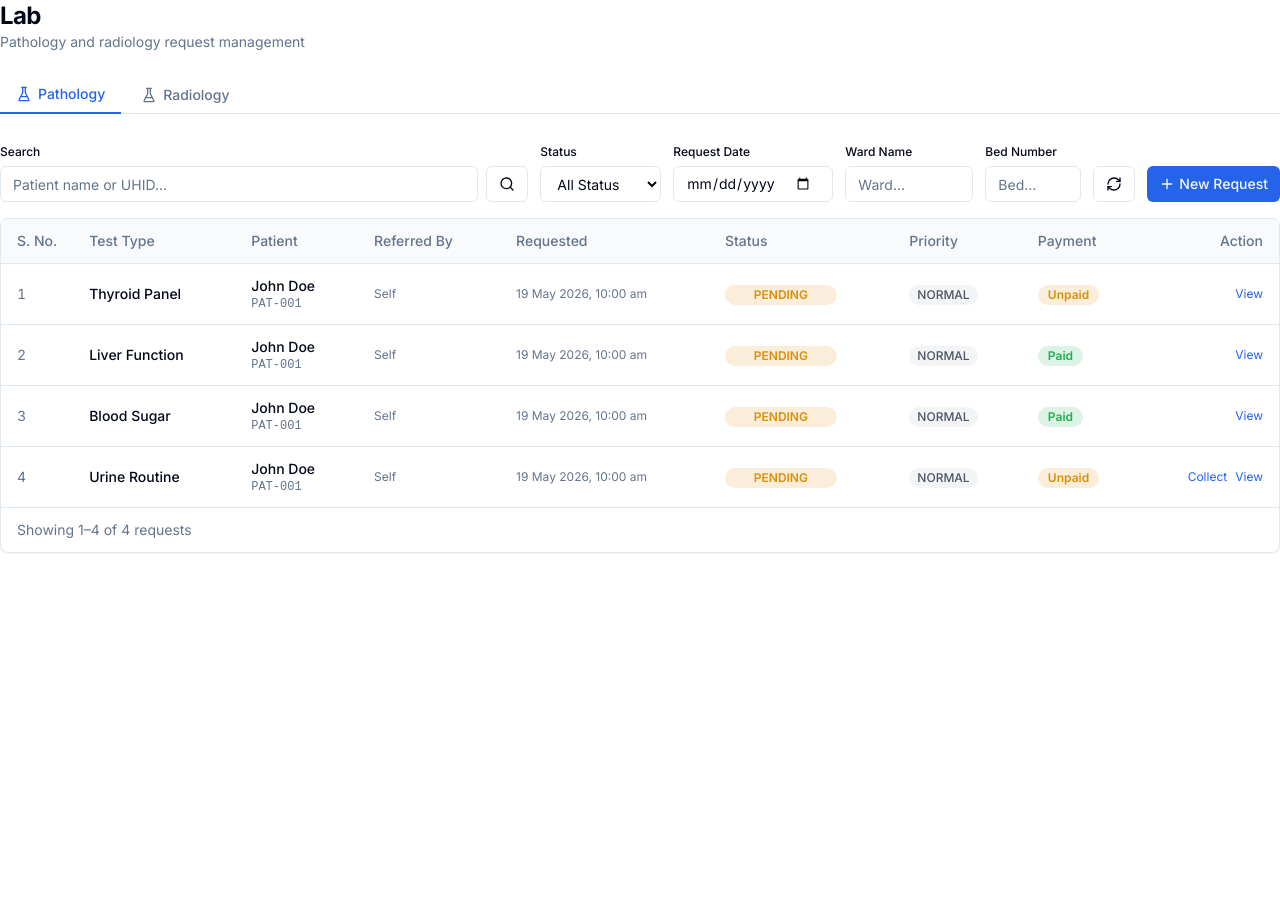
Billing-created lab requests in the Lab section › its detail panel points to Billing instead of offering Collect Payment
The image size is (1280, 900).
Click the button "View" in the row of "Thyroid Panel" at (1249, 294), box [1235,286,1263,302]
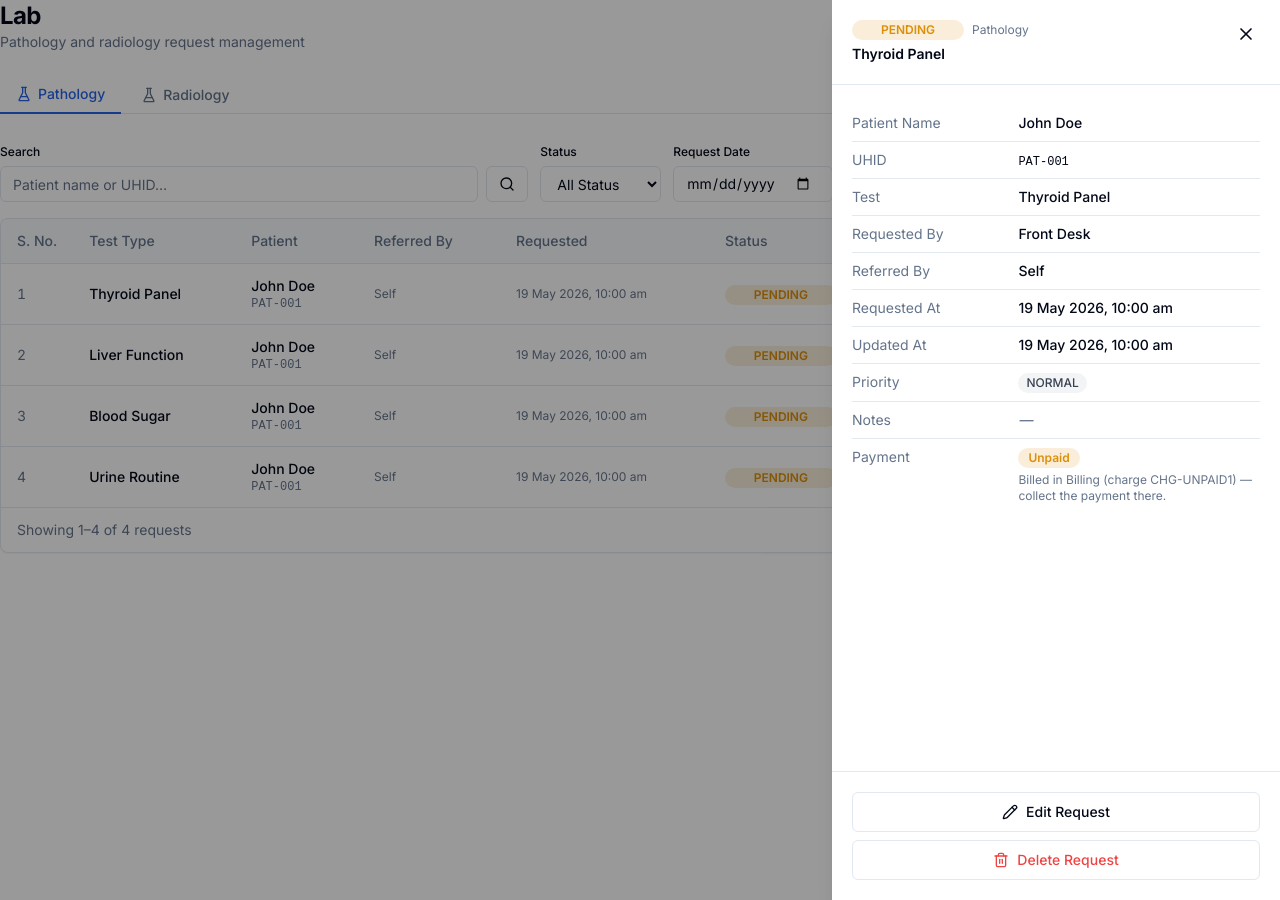
Expected: the text "Billed in Billing (charge CHG-UNPAID1)" is shown, [1018,472,1260,504]
